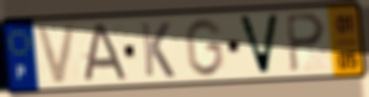A: (78, 21, 131, 84)
G: (183, 16, 225, 79)
K: (138, 21, 177, 80)
P: (284, 12, 328, 75)
V: (33, 21, 80, 88), (236, 12, 283, 77)
